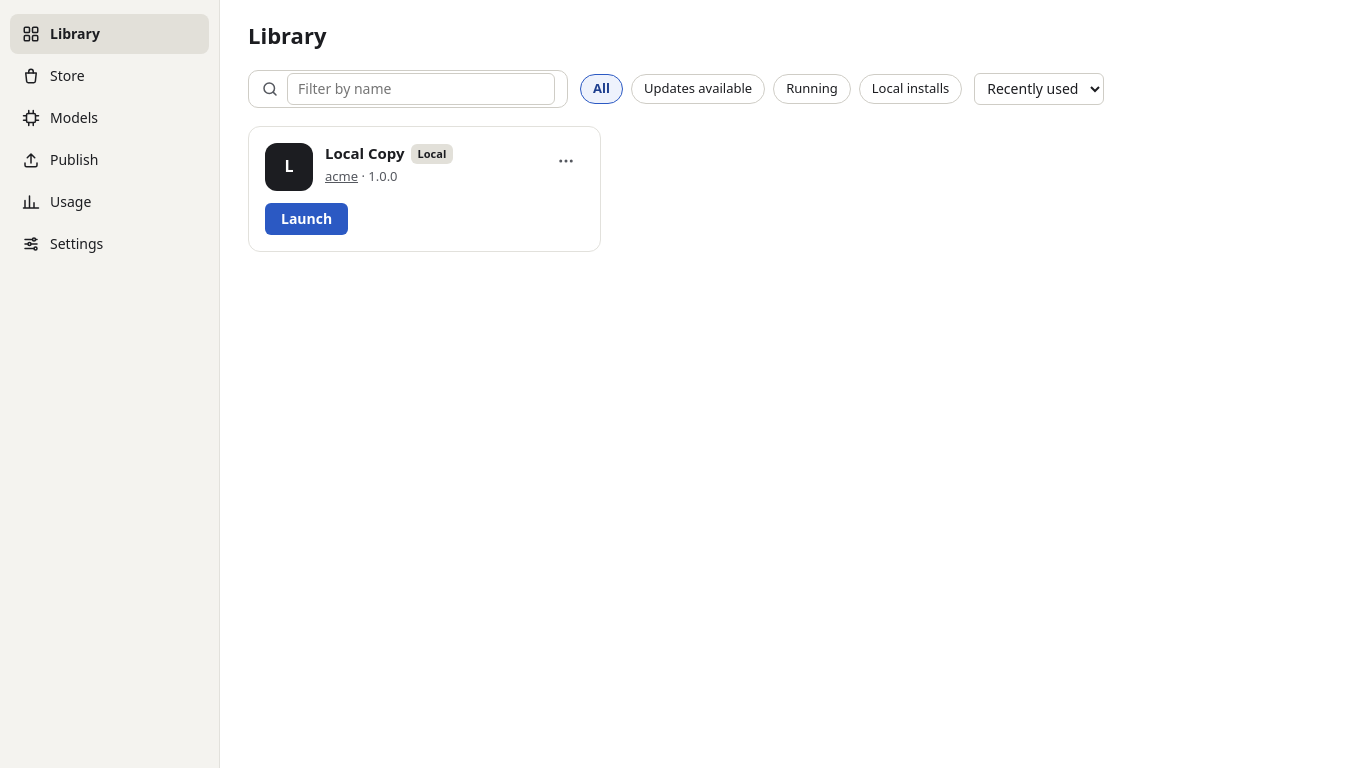
it: the Library cards › a local install never offers Update, even with a version in the row
The width and height of the screenshot is (1366, 768).
Expected: the element "Local Copy" is shown, [248,126,601,252]
Click the button "Updates available". click: (698, 89)
box: [631,74,765,104]
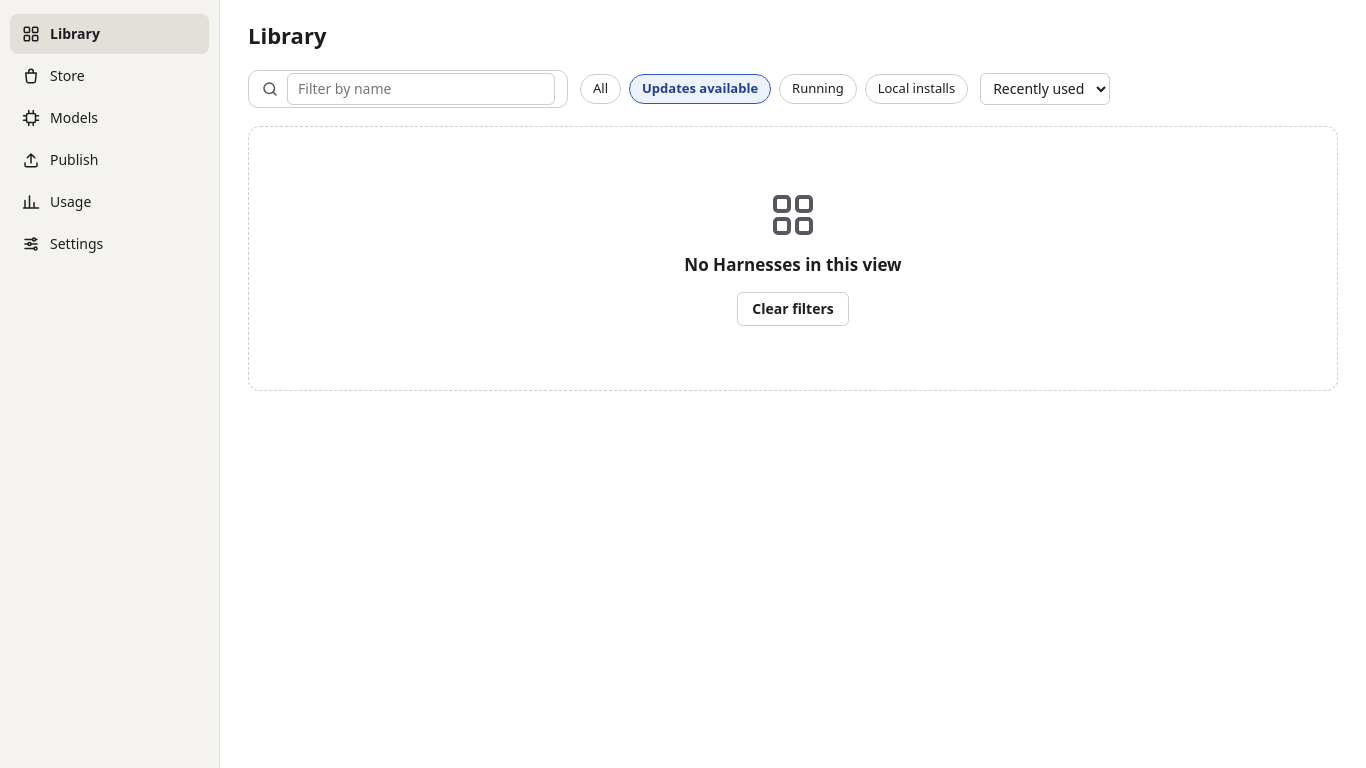
Now the text "No Harnesses in this view" is shown, box [684,253,902,278]
